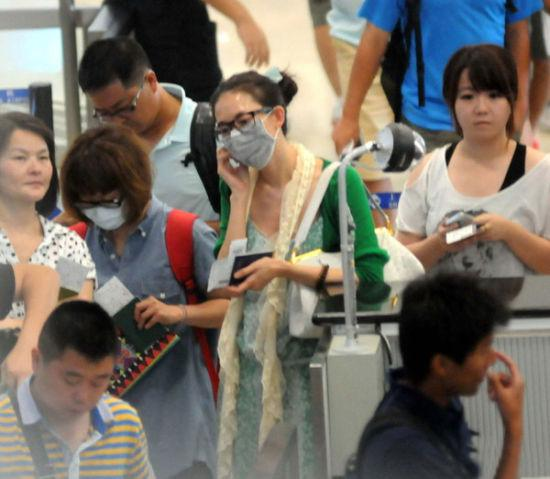NONE: (445, 331, 500, 400), (46, 364, 108, 424), (94, 89, 148, 139), (459, 83, 509, 132), (10, 148, 55, 201)
OK: (215, 108, 274, 167), (79, 187, 132, 230)
